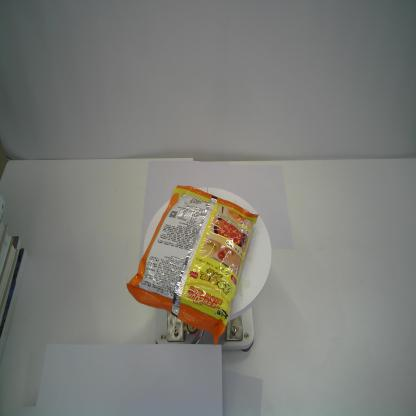Instant Noodles: (125, 183, 260, 347)
